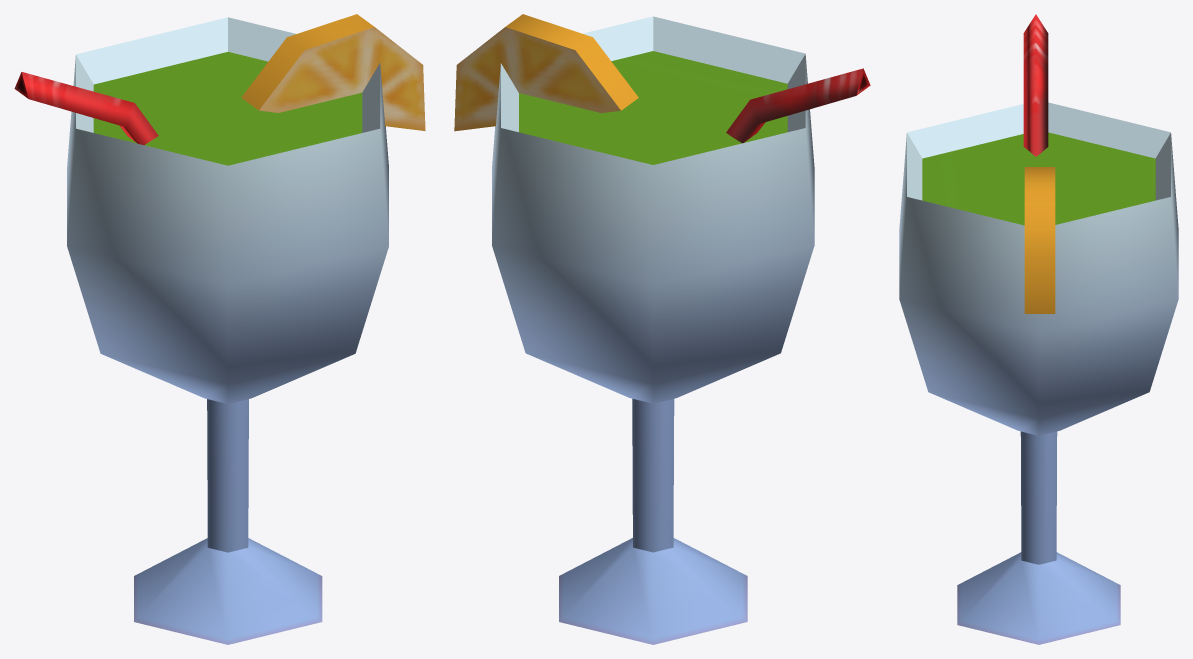
The model's file is Cocktail_01.FBX.
3 renders of one model, left to right at view 1: azimuth 30°, elevation 25°; view 2: azimuth 150°, elevation 25°; view 3: azimuth 270°, elevation 25°, orthographic. The views are drawn at different scales.
Visible parts, largest first — view 1: Cocktail_01; view 2: Cocktail_01; view 3: Cocktail_01.
Part boxes in pixels (box(x1,y1,x2,y2)): Cocktail_01: box(14, 14, 425, 644); Cocktail_01: box(454, 14, 870, 644); Cocktail_01: box(899, 14, 1178, 644).
Bounding box in the file's own units: 0.2138 × 0.15 × 0.2978.
